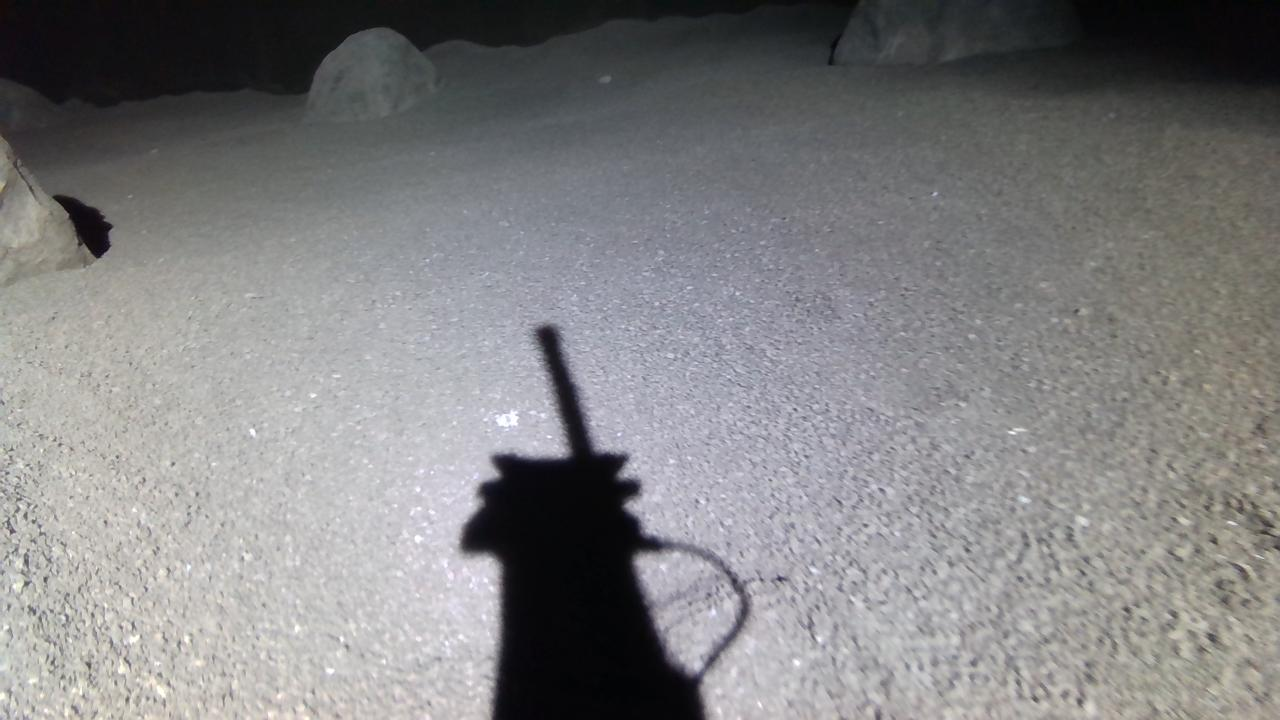rock: (834, 0, 1084, 63), (304, 26, 436, 121)
